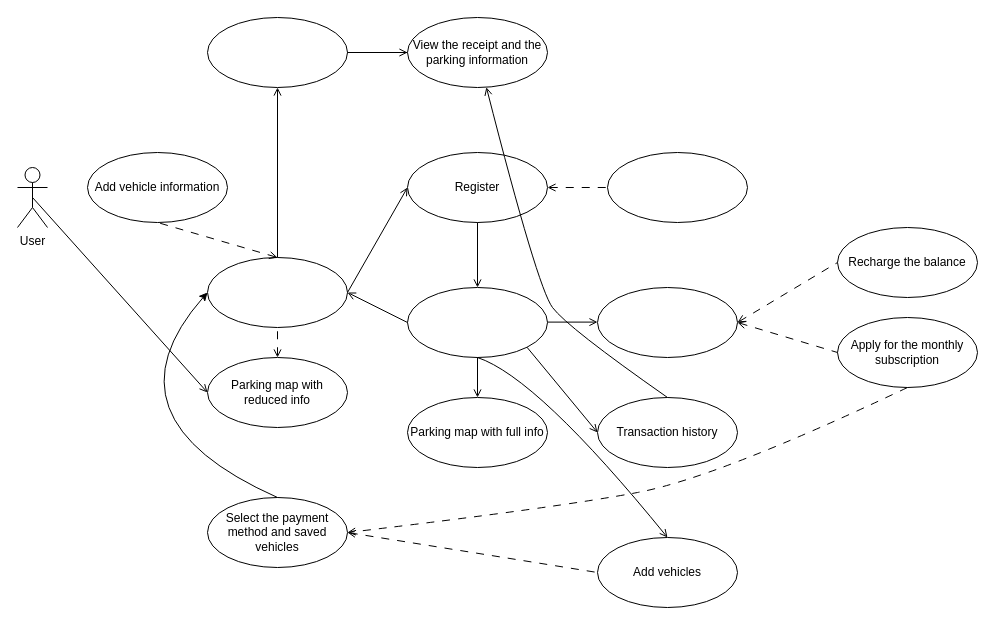
Some shapes in this 995 by 625 pixel diagram are drawn without their labels. The shapes that lost their labels are listed below. From the top down, each one's centre as x and y in pixels, then its label:
At [277,52]: "Payment for the parking spot".
At [677,187]: "Mail verification".
At [277,292]: "Parking spot reservation".
At [477,322]: "User page".
At [667,322]: "Add payment methods".
